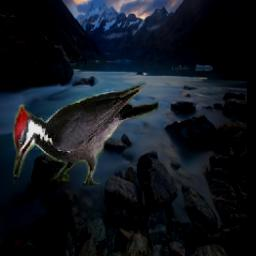Woodpecker: (14, 85, 159, 186)
